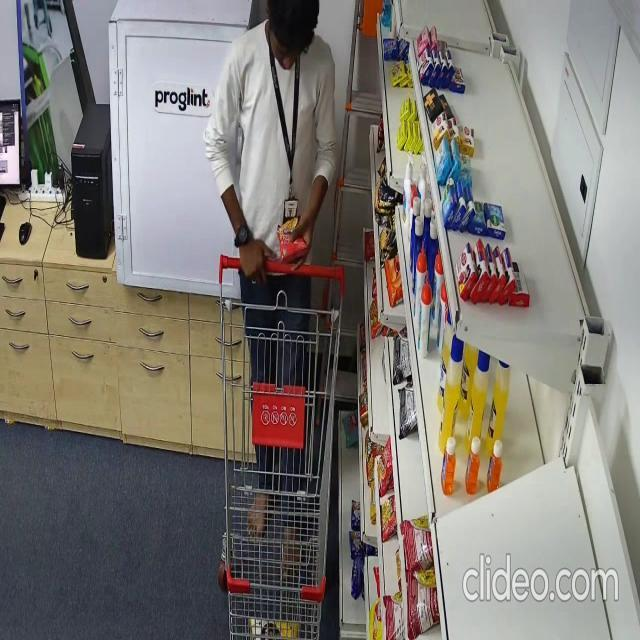normal: (207, 0, 337, 565)
